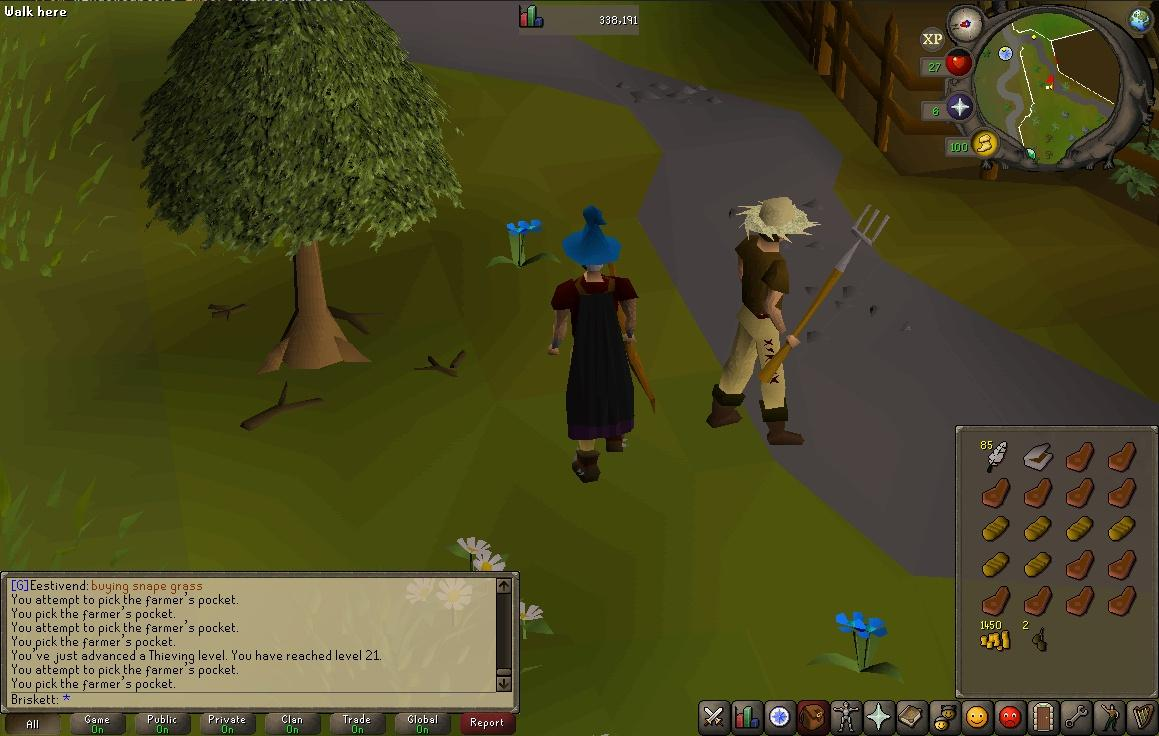Farmer: (706, 196, 821, 447)
